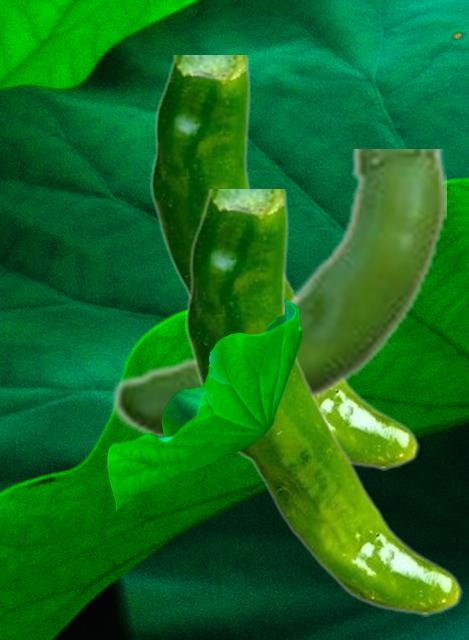green_chili: (185, 189, 461, 615), (150, 55, 418, 469), (110, 149, 445, 437)
